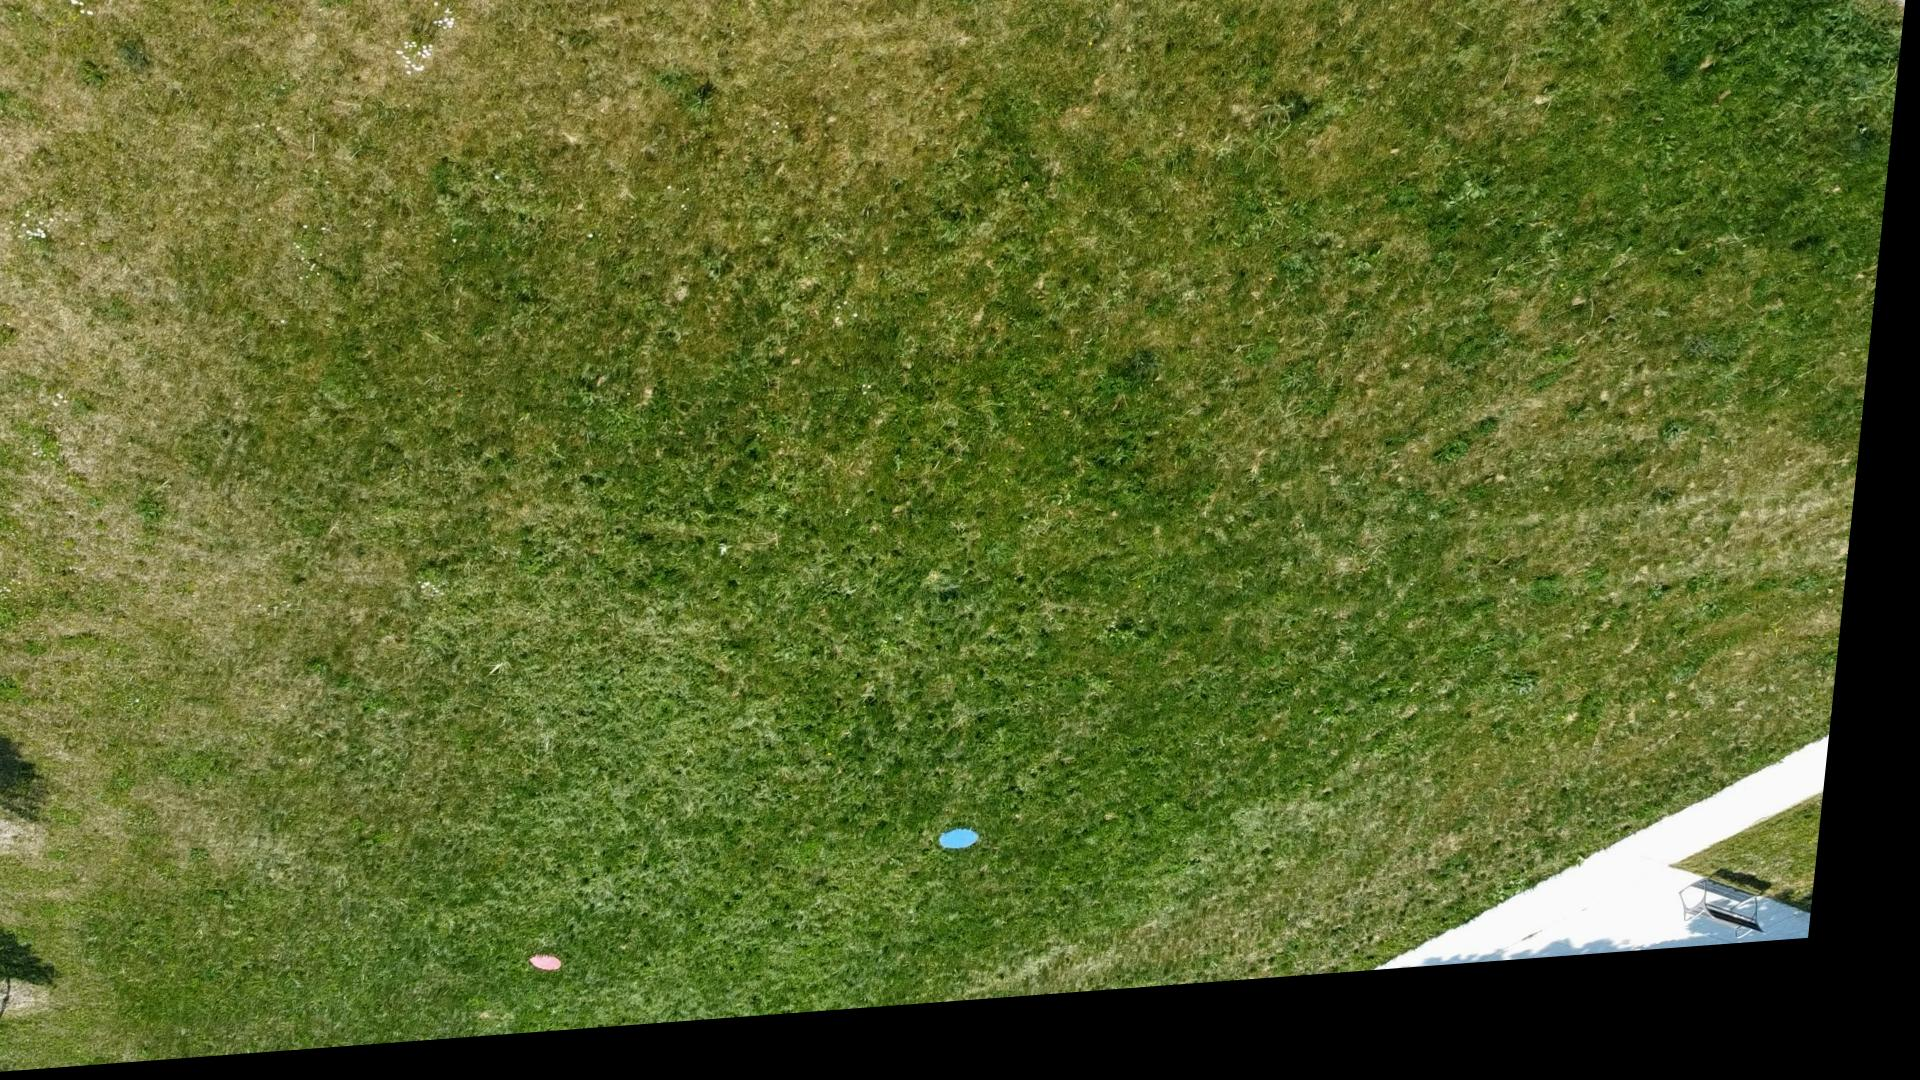Blue: (957, 843, 1002, 869)
Red: (547, 961, 587, 985)
